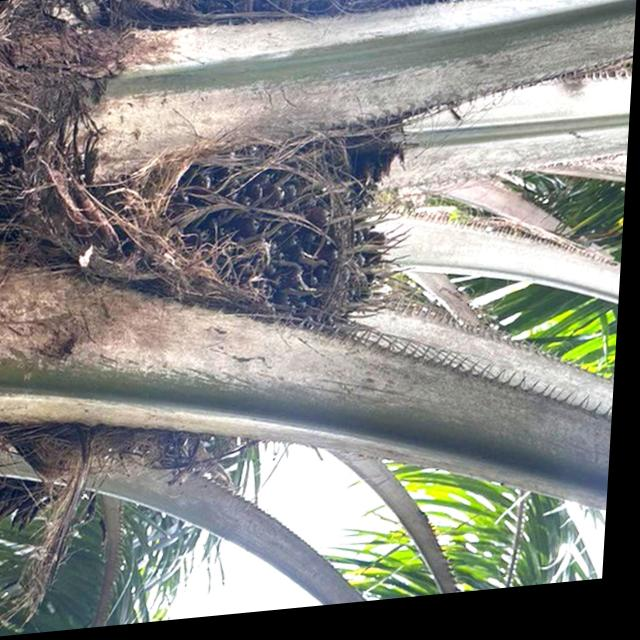ripe: (158, 136, 434, 371)
